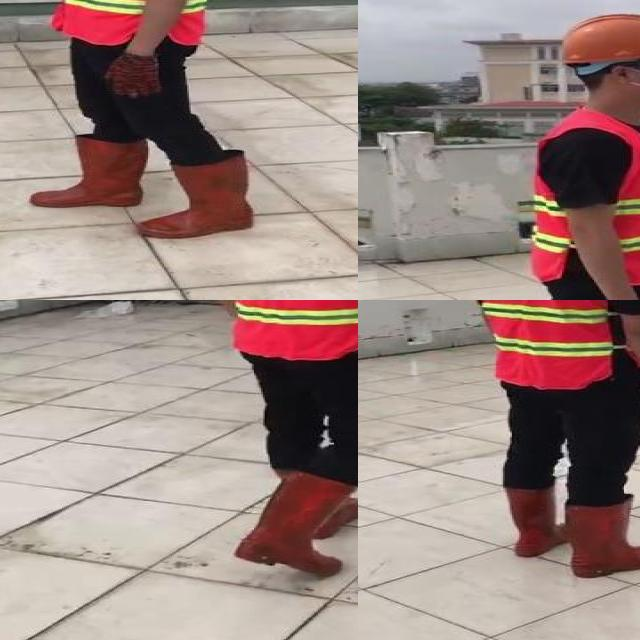boots: (240, 474, 336, 577), (141, 153, 253, 237), (31, 136, 148, 209), (563, 497, 640, 581), (498, 485, 572, 557), (312, 493, 358, 539), (268, 467, 293, 480)
hand_glove: (104, 53, 164, 99)
head_helmet: (557, 11, 640, 62)
person: (19, 0, 265, 241), (459, 300, 640, 580), (190, 300, 358, 584), (506, 10, 640, 300)
vest: (535, 112, 640, 283), (467, 300, 640, 389), (201, 300, 358, 360), (52, 0, 210, 48)
